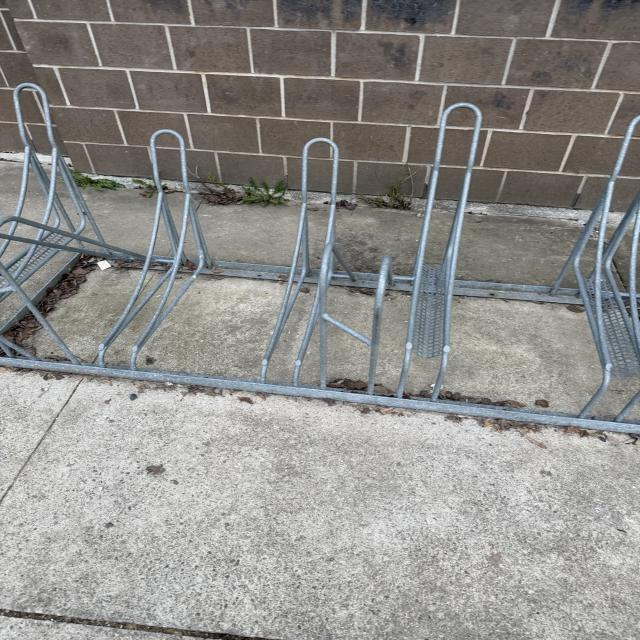Bicycle Rack: (1, 80, 640, 439)
